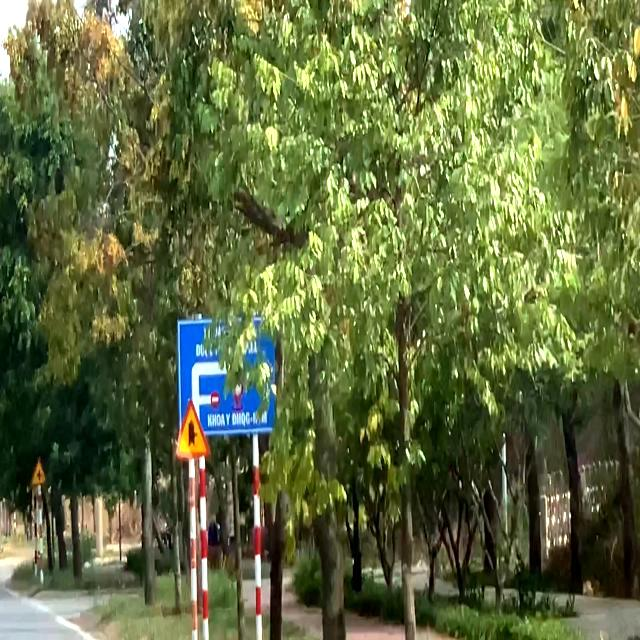Giao nhau voi duong khong uu tien ben phai: (173, 397, 212, 462)
